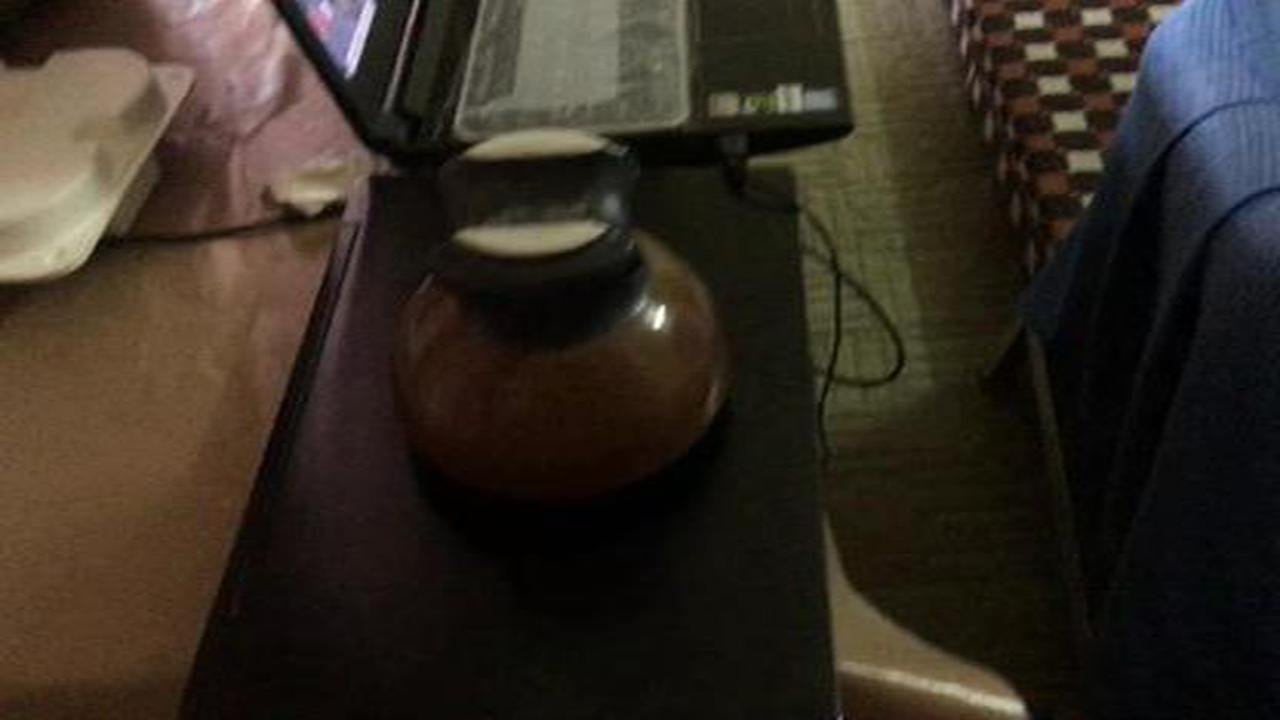insulator_pin: (369, 115, 754, 539)
